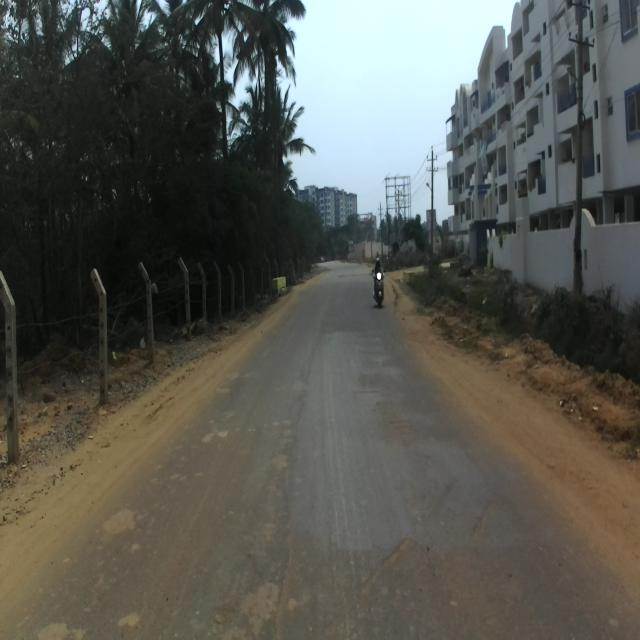barrier ahead at: (0, 267, 25, 468), (87, 264, 120, 408), (135, 257, 159, 368), (175, 250, 195, 336)
